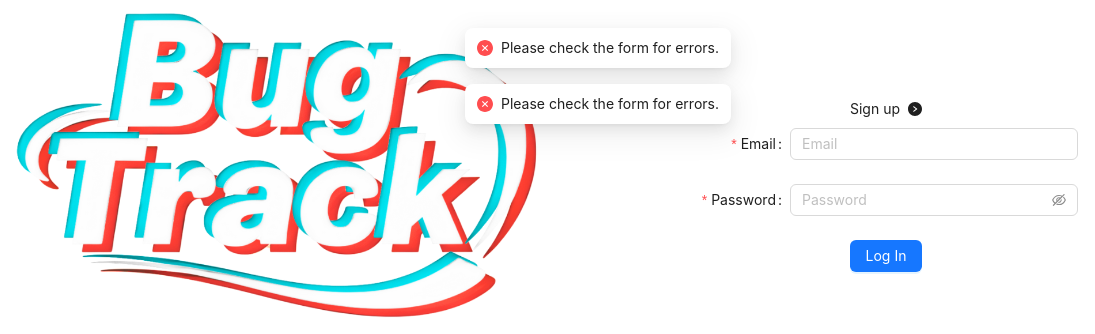
Scenario: Login › catches unexpected errors
The image size is (1095, 334).
Type "valid_email@email.com" into the field with placeholder "Email" at {"x": 934, "y": 144}, box x1=790 y1=128 x2=1078 y2=160
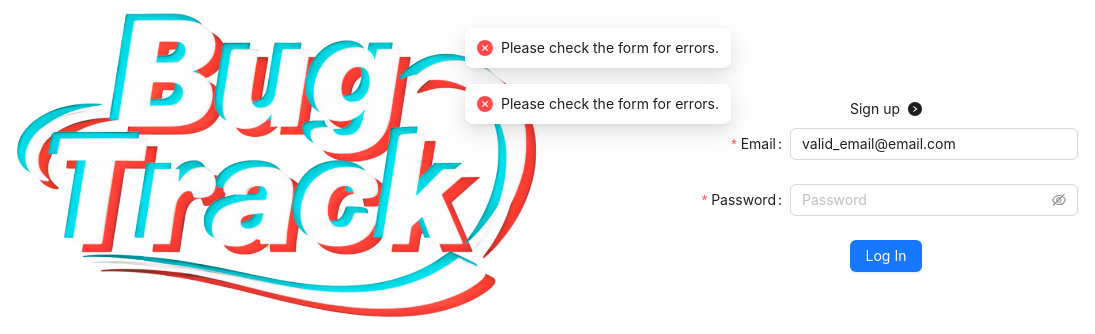
Type "valid_password" into the password field with placeholder "Password" at {"x": 925, "y": 200}, box x1=802 y1=189 x2=1048 y2=211
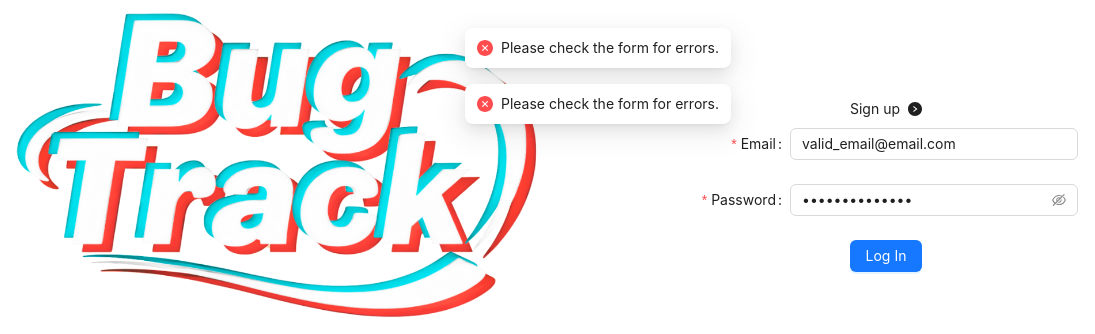
Click the button "Log In" at {"x": 886, "y": 256}, box x1=850 y1=240 x2=922 y2=272
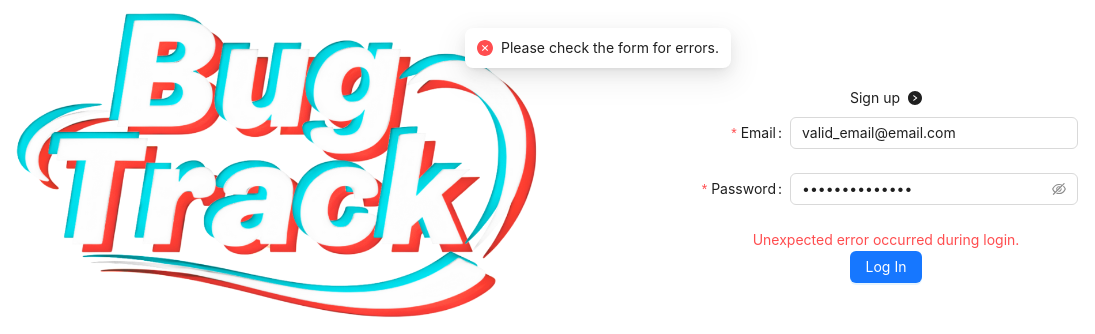
Result: the text "Unexpected error occurred during login." is shown at x1=753 y1=229 x2=1019 y2=251
